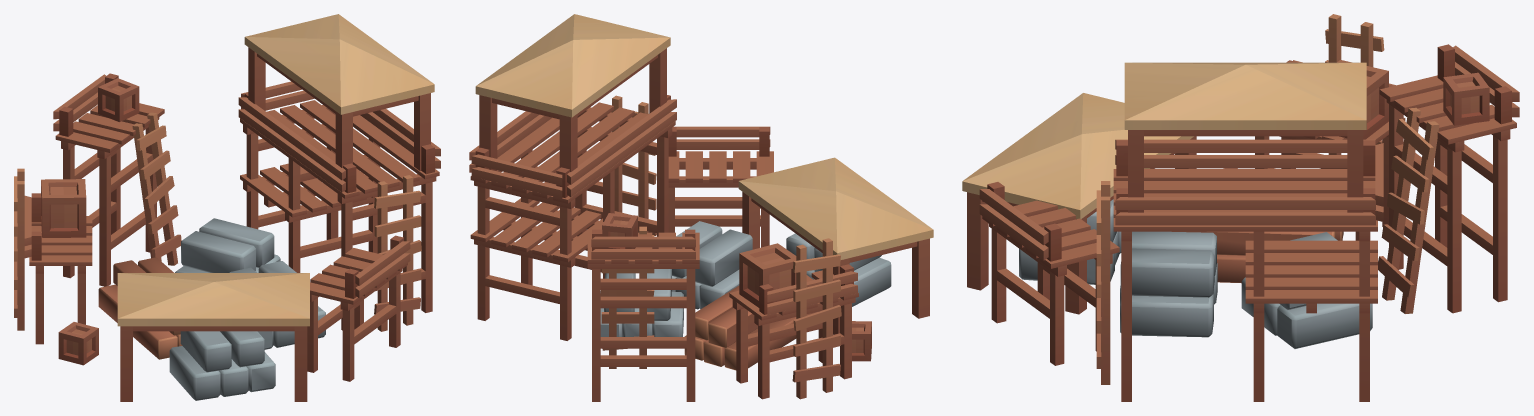
The model's file is building_scaffolding.glb.
3 renders of one model, left to right at view 1: azimuth 30°, elevation 25°; view 2: azimuth 150°, elevation 25°; view 3: azimuth 270°, elevation 25°, orthographic. The views are drawn at different scales.
Visible parts, largest first — view 1: building_scaffolding; view 2: building_scaffolding; view 3: building_scaffolding.
Boxes of the visible parts, <box> form: building_scaffolding: <box>14,14,440,401</box>; building_scaffolding: <box>469,14,933,401</box>; building_scaffolding: <box>962,14,1519,401</box>.
Size of the model in its own units: 1.9 by 1.3 by 2.11.
Materials: 1 (1 with a texture image).
